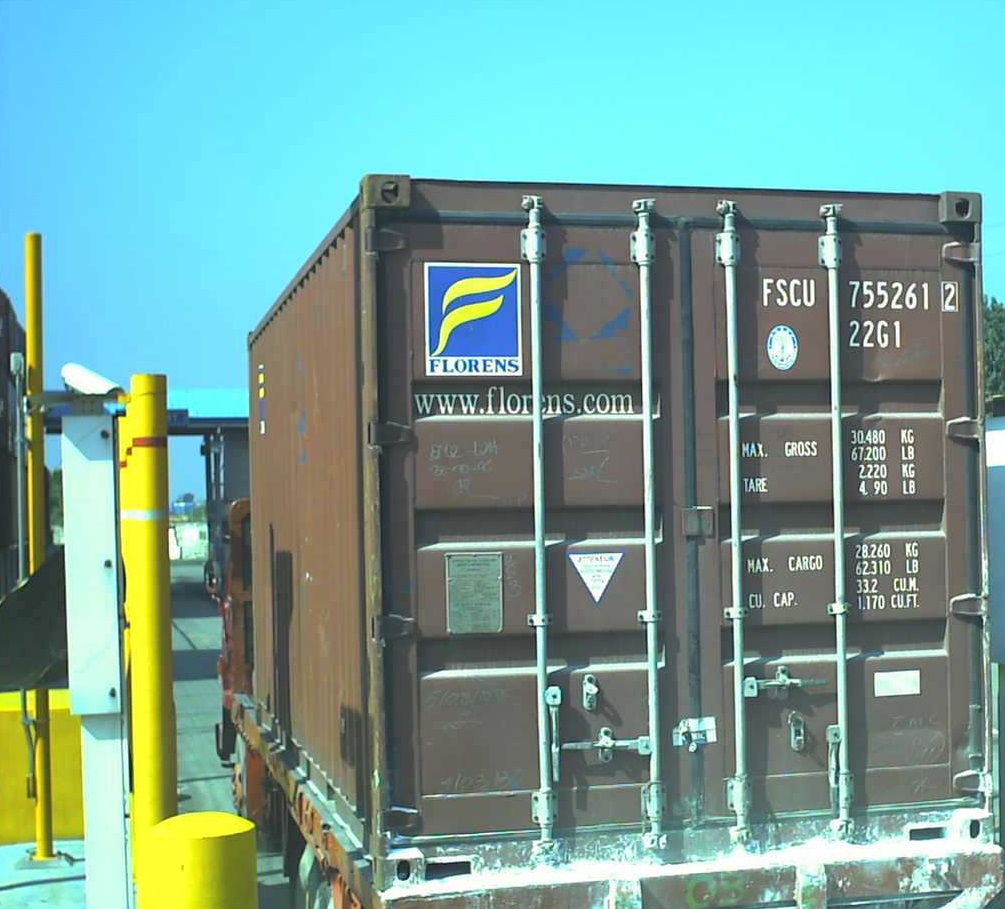container_door: (365, 174, 994, 881)
